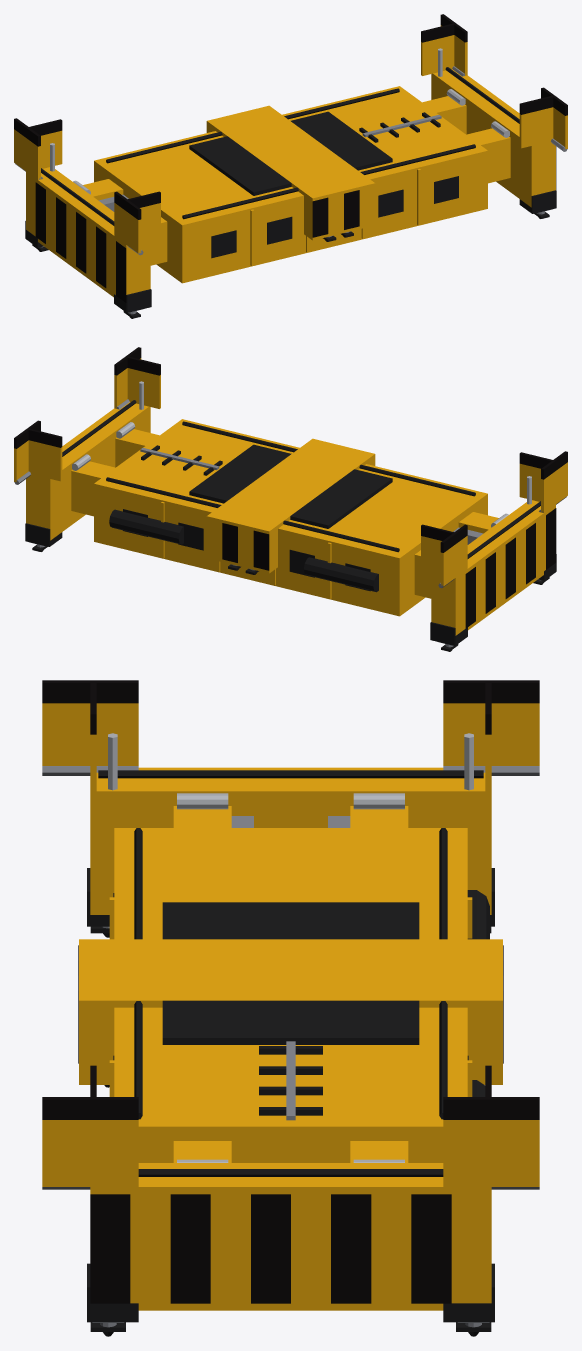
Rendered from hero-spreader-sts.glb.
3 views of the same model, one above another, from view 1: azimuth 30°, elevation 25°; view 2: azimuth 150°, elevation 25°; view 3: azimuth 270°, elevation 25° (orthographic). The views are drawn at different scales.
Visible parts, largest first — view 1: spreader_geo, spreader_tele_aft_geo, spreader_tele_fore_geo, twin_locks_geo; view 2: spreader_geo, spreader_tele_aft_geo, spreader_tele_fore_geo, twin_locks_geo; view 3: spreader_geo, spreader_tele_fore_geo, spreader_tele_aft_geo, twin_locks_geo.
Part boxes in pixels (x1,y1,x2,y2): spreader_geo: (73, 86, 510, 283); spreader_tele_aft_geo: (14, 118, 160, 312); spreader_tele_fore_geo: (421, 14, 567, 213); twin_locks_geo: (206, 105, 375, 240); spreader_geo: (71, 419, 508, 616); spreader_tele_aft_geo: (421, 451, 567, 645); spreader_tele_fore_geo: (14, 347, 160, 546); twin_locks_geo: (206, 438, 375, 573); spreader_geo: (109, 793, 489, 1162); spreader_tele_fore_geo: (42, 1065, 539, 1322); spreader_tele_aft_geo: (42, 680, 539, 926); twin_locks_geo: (78, 939, 503, 1084).
Bounding box in the file's own units: 6.19 × 1.69 × 3.1.
Materials: 1 (1 with a texture image).
